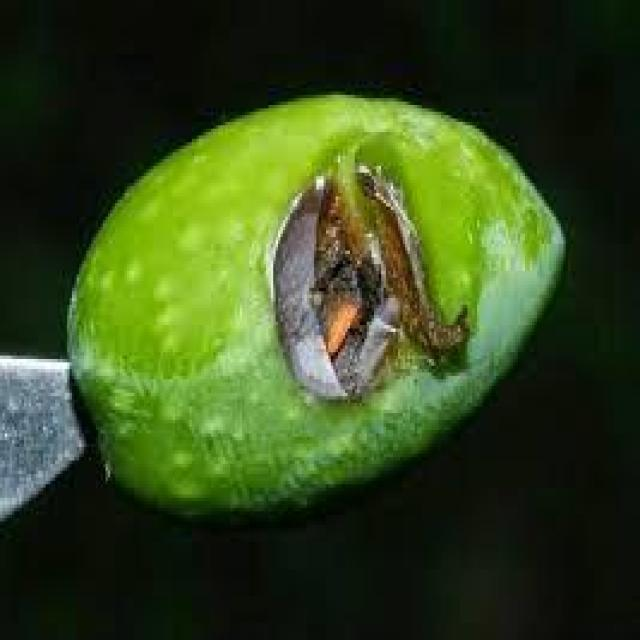Anthracnose: (67, 94, 563, 504)
